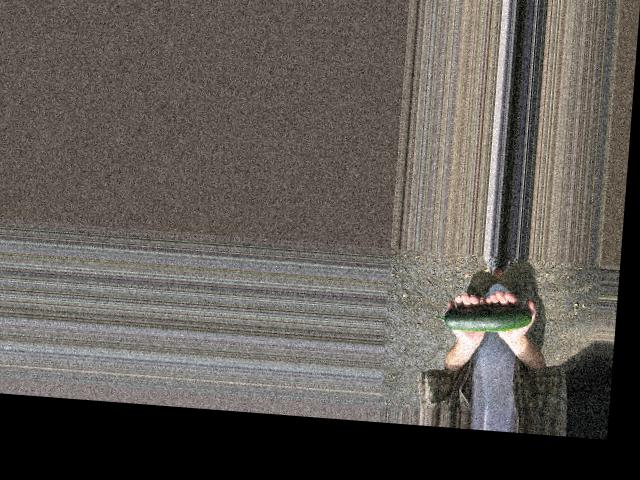cucumber: (432, 299, 531, 335)
